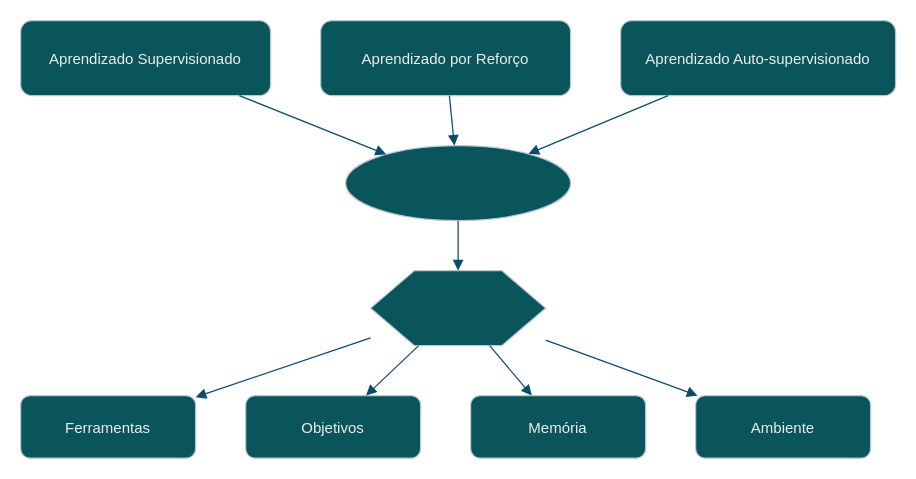
The diagram is 916 pixels wide and 479 high, and some of its shapes have lost their labels. The centre of each missing label's shape, as x and y in pixels:
"Agente" goes at [457,307].
"Modelo Base" goes at [457,182].
